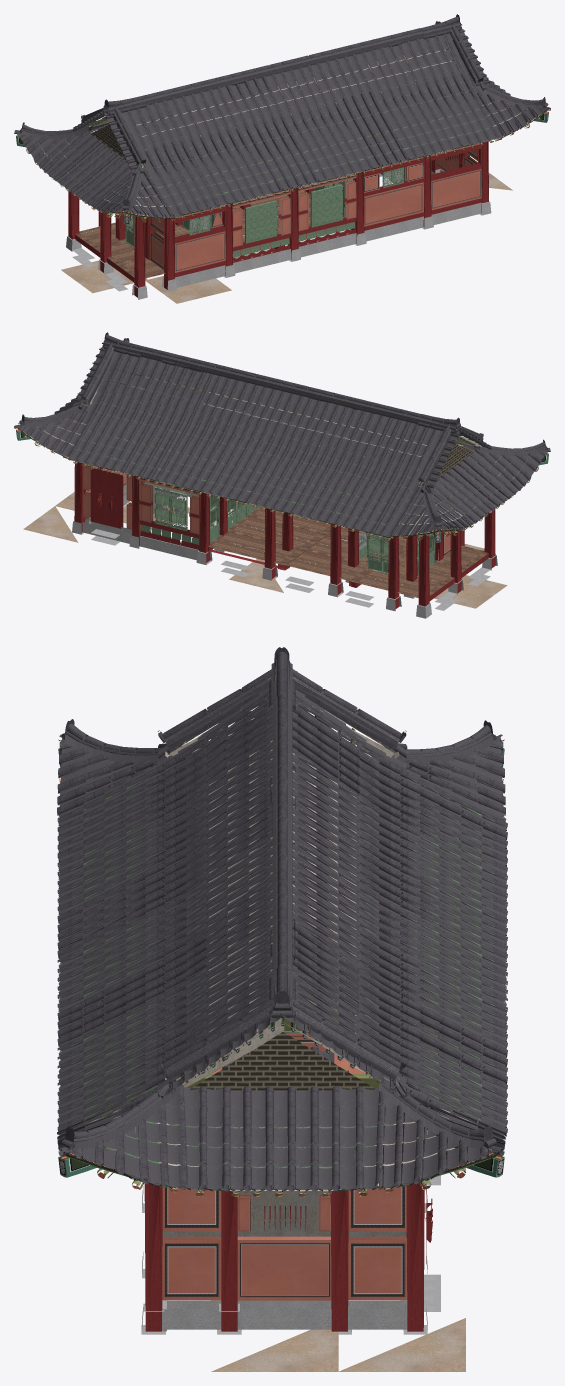
File: jipsa.glb
3 views of the same model, one above another, from view 1: azimuth 30°, elevation 25°; view 2: azimuth 150°, elevation 25°; view 3: azimuth 270°, elevation 25° (orthographic). The views are drawn at different scales.
Parts seen in each view (by area): view 1: SM_Jibsacheong_1, SM_Jibsacheong_1_MI_R_Roof1_0.009, SM_Jibsacheong_1_MI_R_Roof1_0.001, SM_Jibsacheong_1_MI_R_Roof1_0.007, SM_Jibsacheong_1_MI_R_Roof1_0.008, SM_Jibsacheong_1_MI_R_Roof1_0.010, SM_Jibsacheong_1_MI_R_Roof1_0.002, SM_Jibsacheong_1_MI_R_Roof1_0.006, SM_Jibsacheong_1_MI_R_Roof1_0.003, SM_Jibsacheong_1_MI_R_Roof1_0.005, SM_Jibsacheong_1_MI_R_Roof1_0.004, SM_Jibsacheong_1_MI_KoreanWood_5.001_0.001; view 2: SM_Jibsacheong_1, SM_Jibsacheong_1_MI_R_Roof1_0.002, SM_Jibsacheong_1_MI_R_Roof1_0.008, SM_Jibsacheong_1_MI_R_Roof1_0.001, SM_Jibsacheong_1_MI_R_Roof1_0.004, SM_Jibsacheong_1_MI_R_Roof1_0.005, SM_Jibsacheong_1_MI_R_Roof1_0.009, SM_Jibsacheong_1_MI_R_Roof1_0.003, SM_Jibsacheong_1_MI_R_Roof1_0.006, SM_Jibsacheong_1_MI_R_Roof1_0.010, SM_Jibsacheong_1_MI_KoreanWood_5.001_0.001, SM_Jibsacheong_1_MI_R_Roof1_0.007; view 3: SM_Jibsacheong_1, SM_Jibsacheong_1_MI_R_Roof1_0.007, SM_Jibsacheong_1_MI_R_Roof1_0.009, SM_Jibsacheong_1_MI_R_Roof1_0.001, SM_Jibsacheong_1_MI_R_Roof1_0.008, SM_Jibsacheong_1_MI_R_Roof1_0.002, SM_Jibsacheong_1_MI_R_Roof1_0.003, SM_Jibsacheong_1_MI_R_Roof1_0.005, SM_Jibsacheong_1_MI_R_Roof1_0.010, SM_Jibsacheong_1_MI_R_Roof1_0.004, SM_Jibsacheong_1_MI_R_Roof1_0.006.
Boxes of the visible parts, x1,y1,x2,y2 form: SM_Jibsacheong_1: (16,44,548,303); SM_Jibsacheong_1_MI_R_Roof1_0.009: (130,54,499,214); SM_Jibsacheong_1_MI_R_Roof1_0.001: (19,33,478,203); SM_Jibsacheong_1_MI_R_Roof1_0.007: (89,24,510,209); SM_Jibsacheong_1_MI_R_Roof1_0.008: (92,33,496,206); SM_Jibsacheong_1_MI_R_Roof1_0.010: (72,34,409,175); SM_Jibsacheong_1_MI_R_Roof1_0.002: (127,100,218,216); SM_Jibsacheong_1_MI_R_Roof1_0.006: (82,14,489,218); SM_Jibsacheong_1_MI_R_Roof1_0.003: (57,28,550,198); SM_Jibsacheong_1_MI_R_Roof1_0.005: (14,77,244,181); SM_Jibsacheong_1_MI_R_Roof1_0.004: (57,21,459,201); SM_Jibsacheong_1_MI_KoreanWood_5.001_0.001: (182,167,403,232); SM_Jibsacheong_1: (16,338,548,618); SM_Jibsacheong_1_MI_R_Roof1_0.002: (68,353,476,523); SM_Jibsacheong_1_MI_R_Roof1_0.008: (201,361,545,534); SM_Jibsacheong_1_MI_R_Roof1_0.001: (206,385,442,526); SM_Jibsacheong_1_MI_R_Roof1_0.004: (16,400,510,537); SM_Jibsacheong_1_MI_R_Roof1_0.005: (14,391,483,536); SM_Jibsacheong_1_MI_R_Roof1_0.009: (86,351,473,491); SM_Jibsacheong_1_MI_R_Roof1_0.003: (98,346,507,516); SM_Jibsacheong_1_MI_R_Roof1_0.006: (59,332,550,498); SM_Jibsacheong_1_MI_R_Roof1_0.010: (54,353,491,493); SM_Jibsacheong_1_MI_KoreanWood_5.001_0.001: (141,487,386,561); SM_Jibsacheong_1_MI_R_Roof1_0.007: (65,342,548,491); SM_Jibsacheong_1: (57,706,507,1371); SM_Jibsacheong_1_MI_R_Roof1_0.007: (57,690,407,1191); SM_Jibsacheong_1_MI_R_Roof1_0.009: (57,699,507,1134); SM_Jibsacheong_1_MI_R_Roof1_0.001: (57,715,507,1084); SM_Jibsacheong_1_MI_R_Roof1_0.008: (57,687,507,1128); SM_Jibsacheong_1_MI_R_Roof1_0.002: (57,692,507,1136); SM_Jibsacheong_1_MI_R_Roof1_0.003: (57,790,507,1190); SM_Jibsacheong_1_MI_R_Roof1_0.005: (272,703,507,1190); SM_Jibsacheong_1_MI_R_Roof1_0.010: (57,647,407,1190); SM_Jibsacheong_1_MI_R_Roof1_0.004: (292,697,507,1190); SM_Jibsacheong_1_MI_R_Roof1_0.006: (57,731,407,1191).
Bounding box in the file's own units: 19.32 × 7.47 × 8.82.
21 materials, 20 textured.
